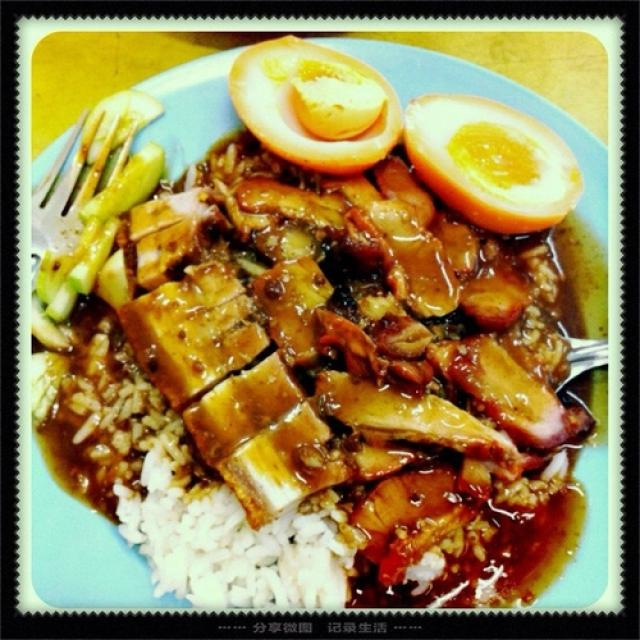猪肉菜式: (39, 37, 584, 586)
